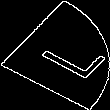L_NW: (14, 28, 96, 82)
